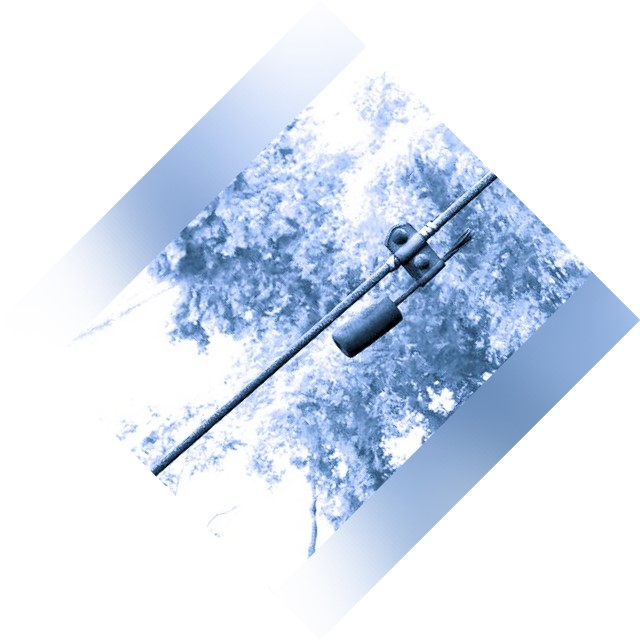Damage of shockproof hammer: (321, 204, 487, 364)
